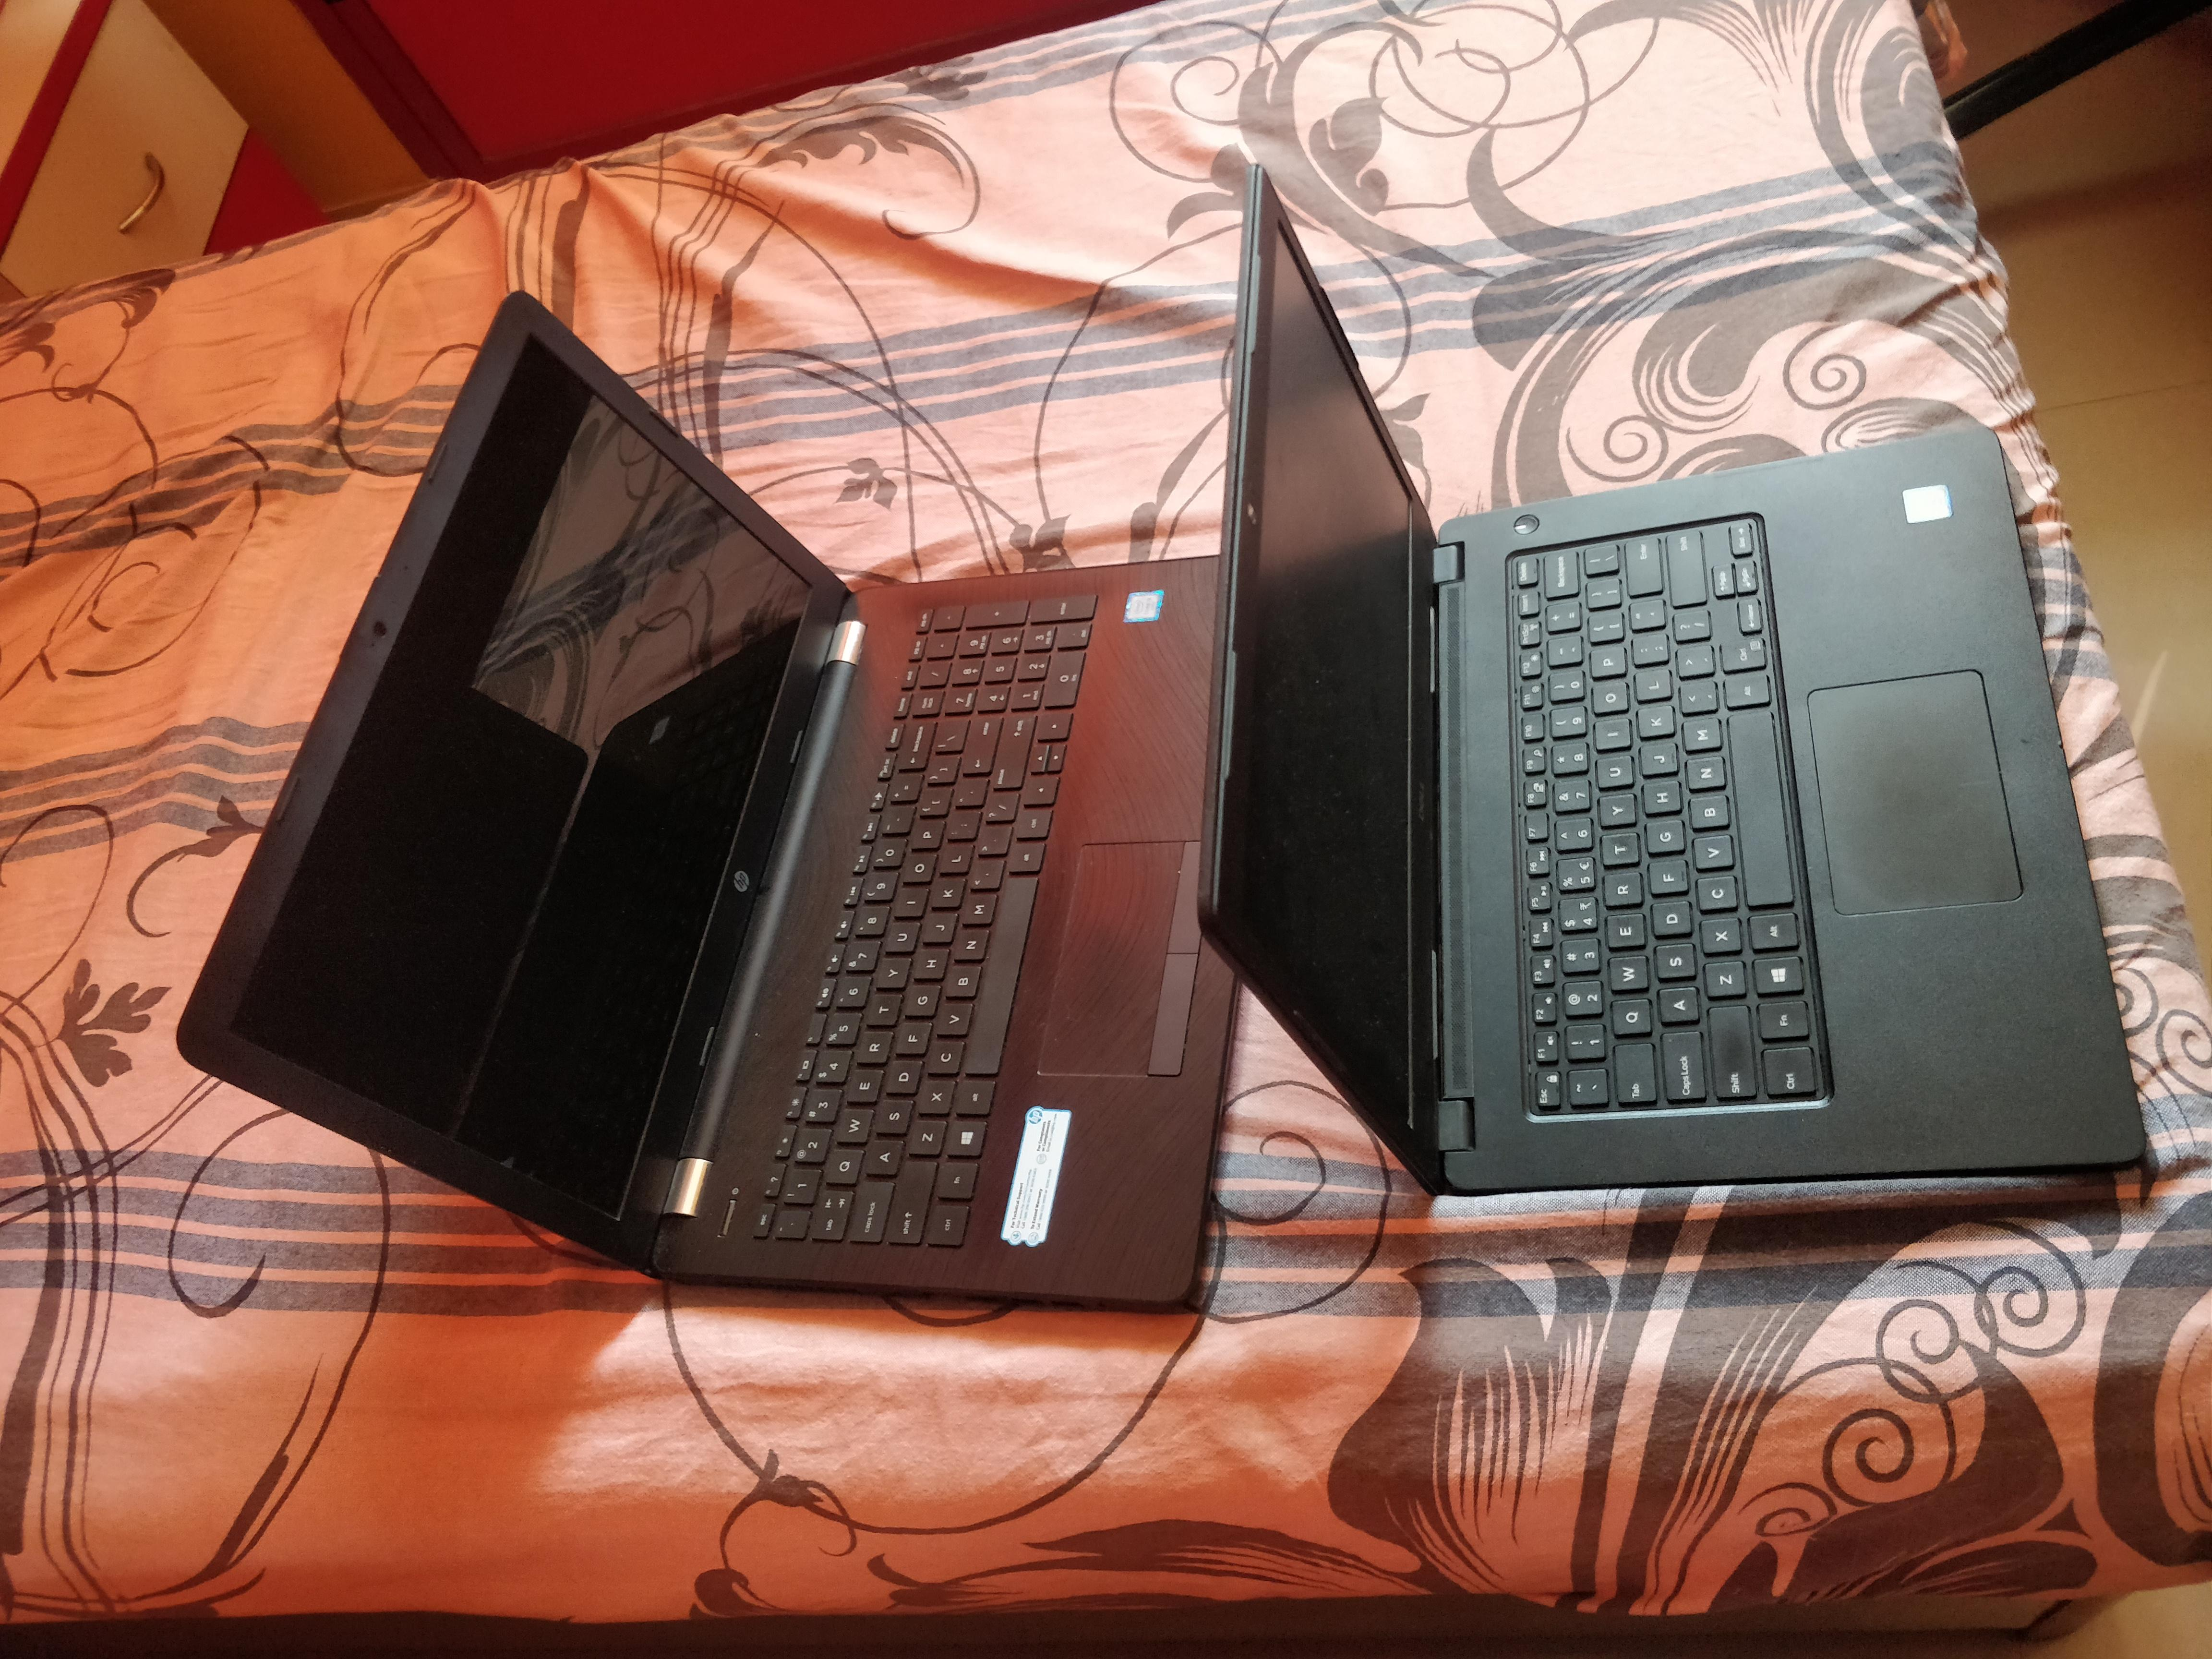laptop: (139, 261, 1261, 1345), (1172, 120, 2198, 1243)
